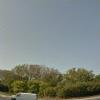Tree: (13, 54, 86, 97)
